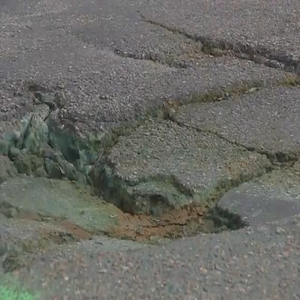pothole: (7, 103, 241, 254)
